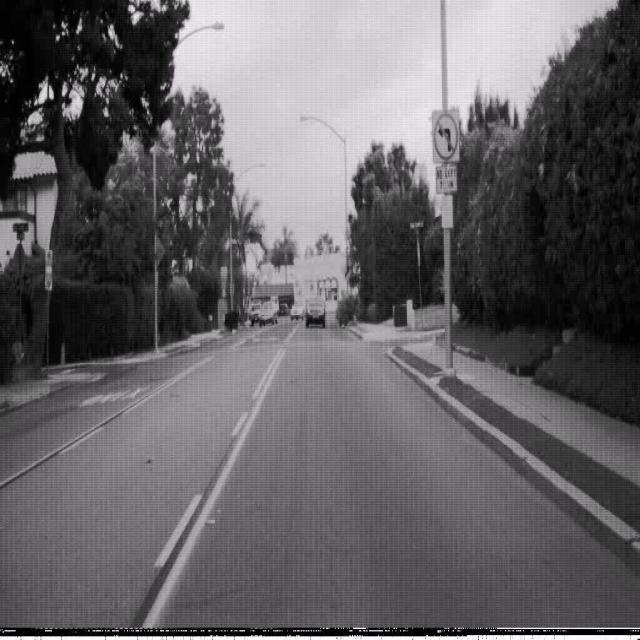noLeftTurn: (432, 109, 459, 163)
